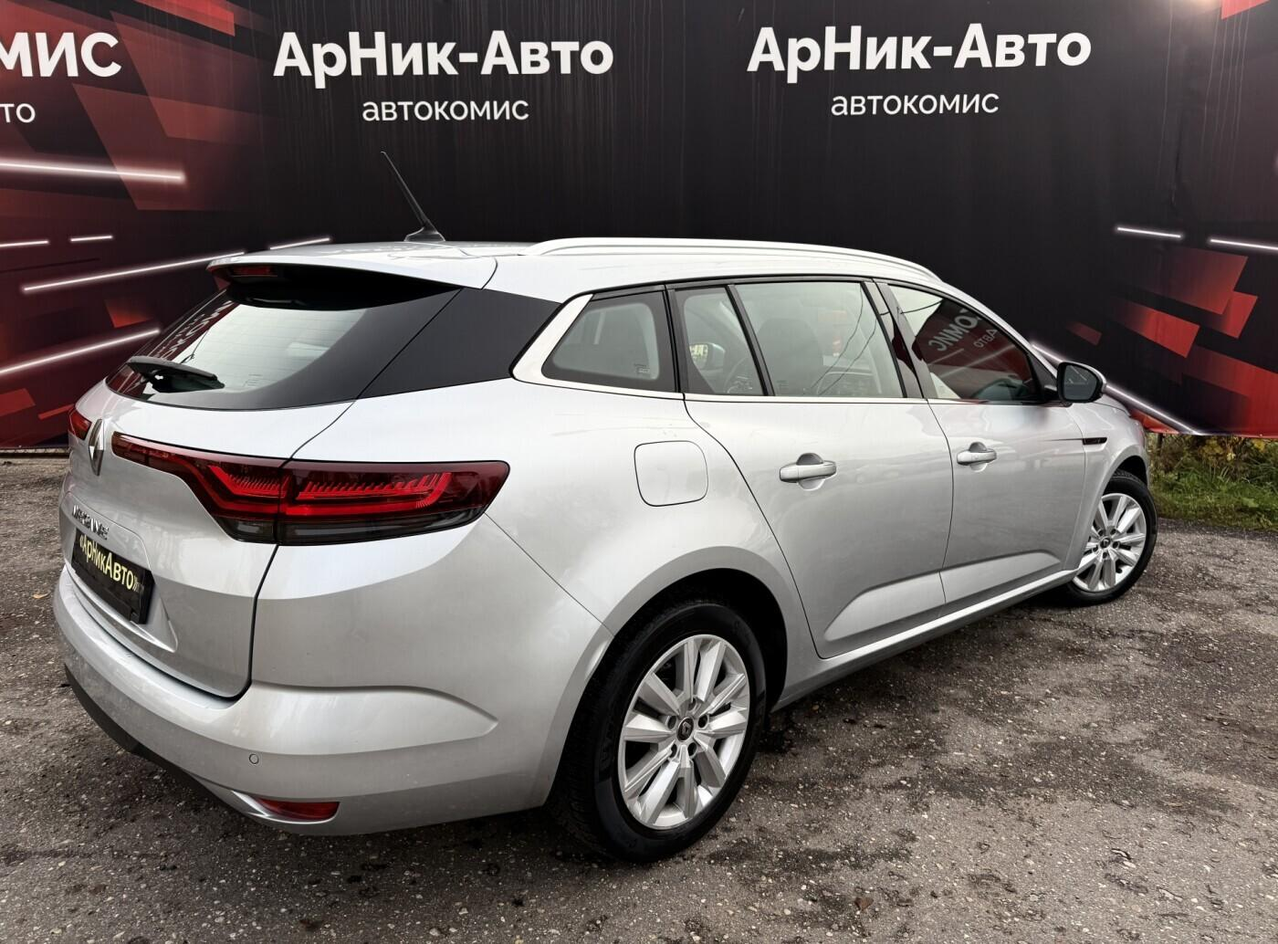Megane_2020: (35, 237, 1161, 861)
